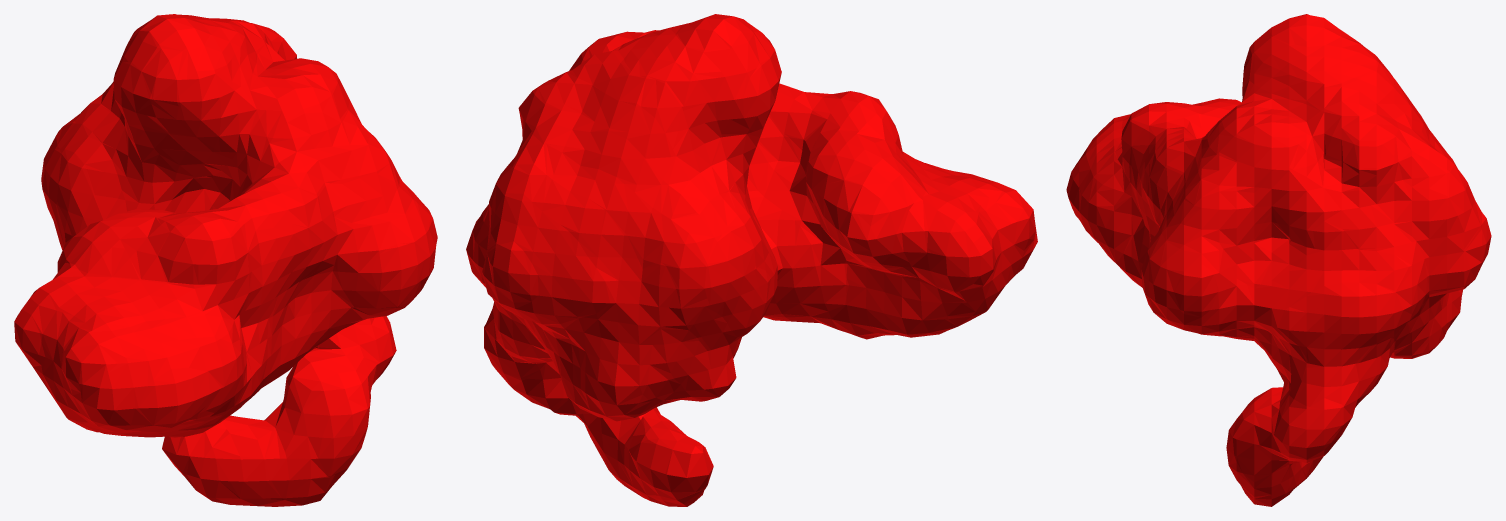
File: ttcA_coarse.dae
3 renders of one model, left to right at view 1: azimuth 30°, elevation 25°; view 2: azimuth 150°, elevation 25°; view 3: azimuth 270°, elevation 25°, orthographic. The views are drawn at different scales.
Visible parts, largest first — view 1: ttcA; view 2: ttcA; view 3: ttcA.
Part boxes in pixels (x1=…): ttcA: x1=14, y1=14, x2=437, y2=506; ttcA: x1=466, y1=14, x2=1037, y2=506; ttcA: x1=1066, y1=14, x2=1491, y2=506.
Bounding box in the file's own units: 65 × 72.04 × 62.83.
